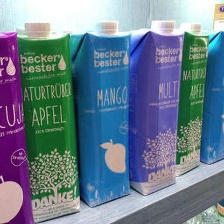carton: (24, 18, 82, 224), (75, 16, 132, 207), (127, 18, 185, 196), (0, 25, 35, 223), (170, 20, 211, 177), (198, 24, 224, 166)
